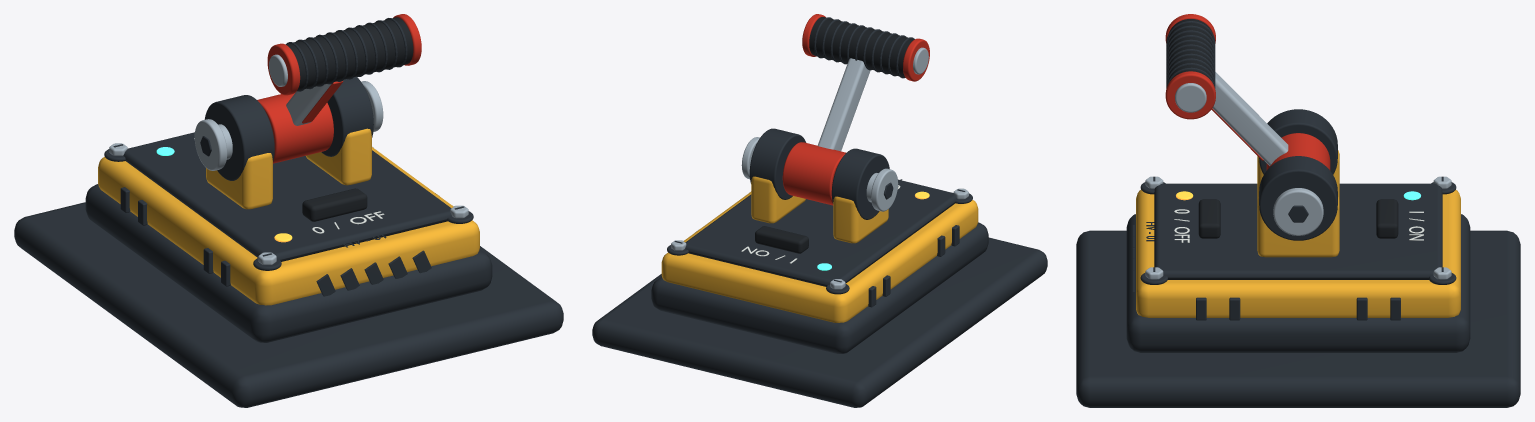
Rendered from HV_lever_animated.glb.
3 views of the same model, side by side, from view 1: azimuth 30°, elevation 25°; view 2: azimuth 150°, elevation 25°; view 3: azimuth 270°, elevation 25° (orthographic). The views are drawn at different scales.
Parts seen in each view (by area): view 1: HV • Display plinth, HV • Recessed top plate, HV • Cast base, HV • Safety yellow housing, HV • Rubber handle, HV • Bearing block, HV • LEVER • animated hub, HV • Bearing block.001, HV • Pivot pedestal, HV • Pivot pedestal.001, HV • Travel stop, HV • Axle cap (+5 smaller); view 2: HV • Display plinth, HV • Recessed top plate, HV • Safety yellow housing, HV • Cast base, HV • Rubber handle, HV • LEVER • animated hub, HV • Bearing block, HV • Lever steel stem, HV • Bearing block.001, HV • Pivot pedestal, HV • Pivot pedestal.001, HV • Travel stop.001 (+2 smaller); view 3: HV • Display plinth, HV • Recessed top plate, HV • Safety yellow housing, HV • Cast base, HV • Bearing block.001, HV • Lever steel stem, HV • Pivot pedestal.001, HV • Bearing block, HV • Axle cap.001, HV • Rubber handle, HV • Red grip end.001, HV • LEVER • animated hub (+3 smaller).
Boxes of the visible parts, x1=… form: HV • Display plinth: x1=14, y1=202, x2=563, y2=407; HV • Recessed top plate: x1=123, y1=132, x2=451, y2=261; HV • Cast base: x1=85, y1=184, x2=492, y2=342; HV • Safety yellow housing: x1=98, y1=147, x2=479, y2=305; HV • Rubber handle: x1=285, y1=17, x2=413, y2=90; HV • Bearing block: x1=204, y1=95, x2=274, y2=180; HV • LEVER • animated hub: x1=257, y1=93, x2=333, y2=163; HV • Bearing block.001: x1=321, y1=76, x2=373, y2=156; HV • Pivot pedestal: x1=206, y1=153, x2=272, y2=209; HV • Pivot pedestal.001: x1=306, y1=128, x2=371, y2=185; HV • Travel stop: x1=302, y1=188, x2=367, y2=221; HV • Axle cap: x1=194, y1=119, x2=227, y2=170; HV • Display plinth: x1=592, y1=237, x2=1047, y2=407; HV • Recessed top plate: x1=685, y1=179, x2=956, y2=286; HV • Safety yellow housing: x1=661, y1=192, x2=978, y2=322; HV • Cast base: x1=651, y1=222, x2=988, y2=353; HV • Rubber handle: x1=809, y1=17, x2=914, y2=77; HV • LEVER • animated hub: x1=782, y1=142, x2=846, y2=205; HV • Bearing block: x1=831, y1=148, x2=889, y2=219; HV • Lever steel stem: x1=817, y1=58, x2=870, y2=151; HV • Bearing block.001: x1=749, y1=128, x2=806, y2=199; HV • Pivot pedestal: x1=833, y1=196, x2=888, y2=243; HV • Pivot pedestal.001: x1=751, y1=176, x2=805, y2=223; HV • Travel stop.001: x1=755, y1=226, x2=808, y2=253; HV • Display plinth: x1=1076, y1=230, x2=1520, y2=407; HV • Recessed top plate: x1=1154, y1=183, x2=1442, y2=279; HV • Safety yellow housing: x1=1136, y1=190, x2=1460, y2=317; HV • Cast base: x1=1126, y1=214, x2=1470, y2=352; HV • Bearing block.001: x1=1259, y1=156, x2=1337, y2=240; HV • Lever steel stem: x1=1212, y1=72, x2=1288, y2=165; HV • Pivot pedestal.001: x1=1257, y1=197, x2=1339, y2=257; HV • Bearing block: x1=1259, y1=109, x2=1337, y2=174; HV • Axle cap.001: x1=1273, y1=188, x2=1323, y2=235; HV • Rubber handle: x1=1168, y1=19, x2=1213, y2=81; HV • Red grip end.001: x1=1165, y1=71, x2=1215, y2=119; HV • LEVER • animated hub: x1=1266, y1=133, x2=1330, y2=170.
Size of the model in its own units: 2.2 by 1.91 by 2.65.
